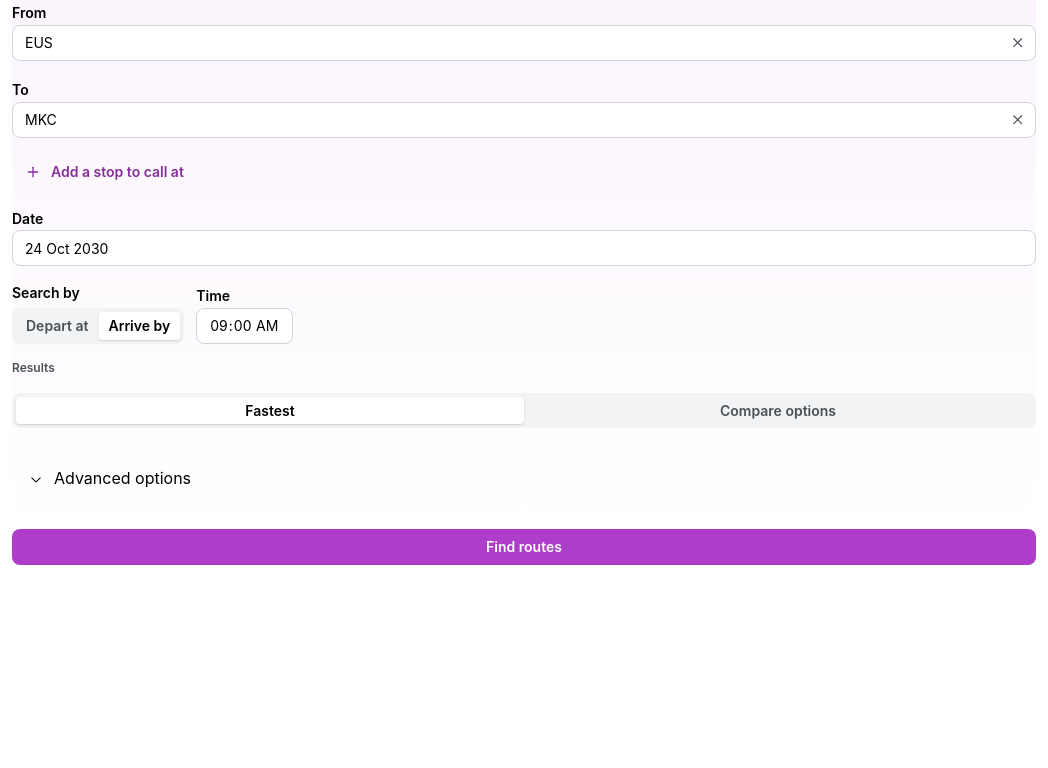
Test: PlanTripFlow arrive-by and paging (2026-10-19) › shows a failed page by its button and keeps the results
The image size is (1048, 768).
Click the button "Find routes": (524, 547) [12,529,1036,565]
(page scrolled)
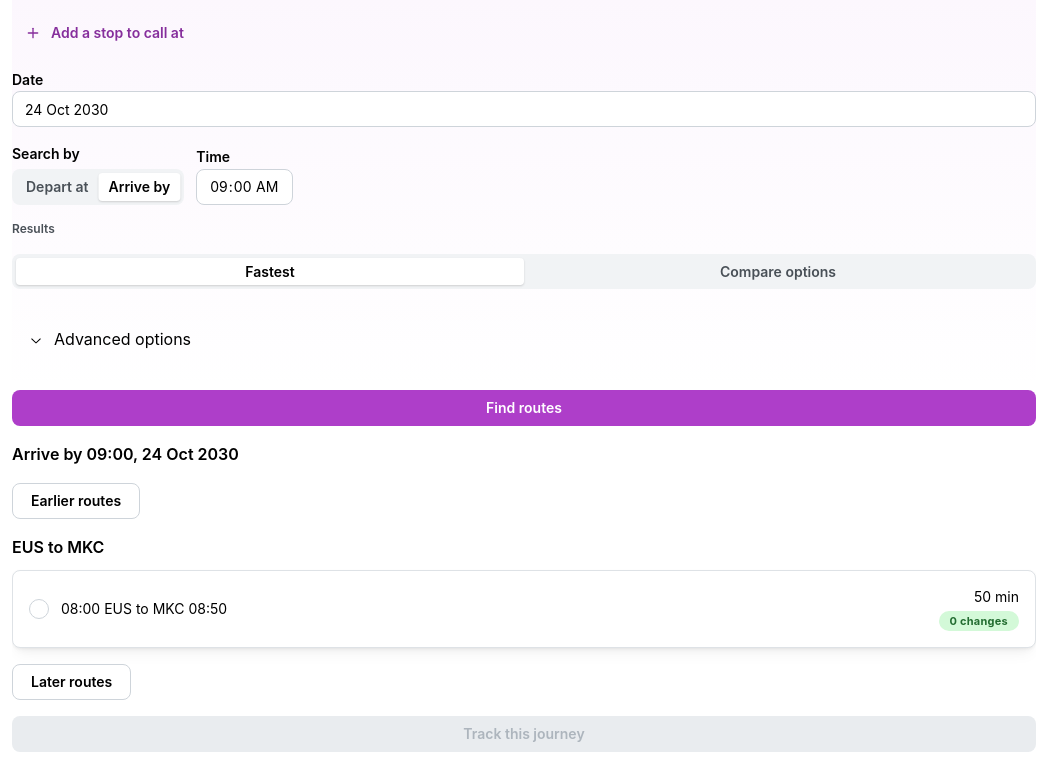
Click the button "Later routes": (72, 682) [12,664,131,700]
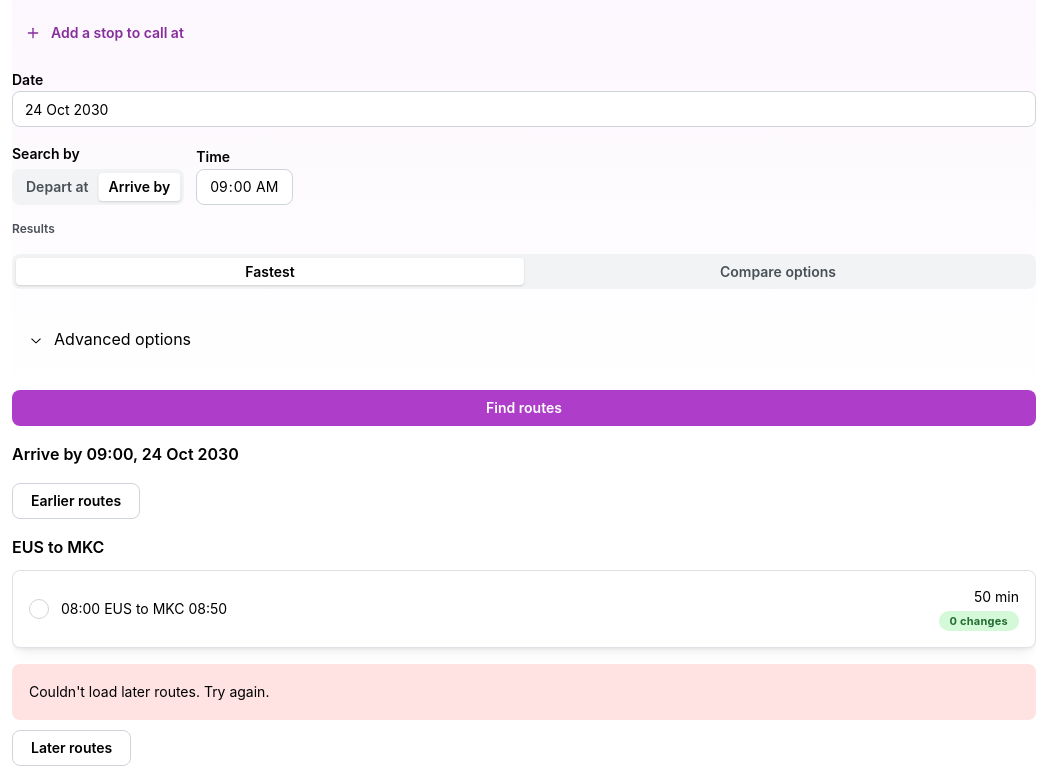
expect the button "Later routes" is enabled: met, box [12,730,131,766]
expect the text "Couldn't load later routes. Try again." is shown: met, box [29,683,269,700]
